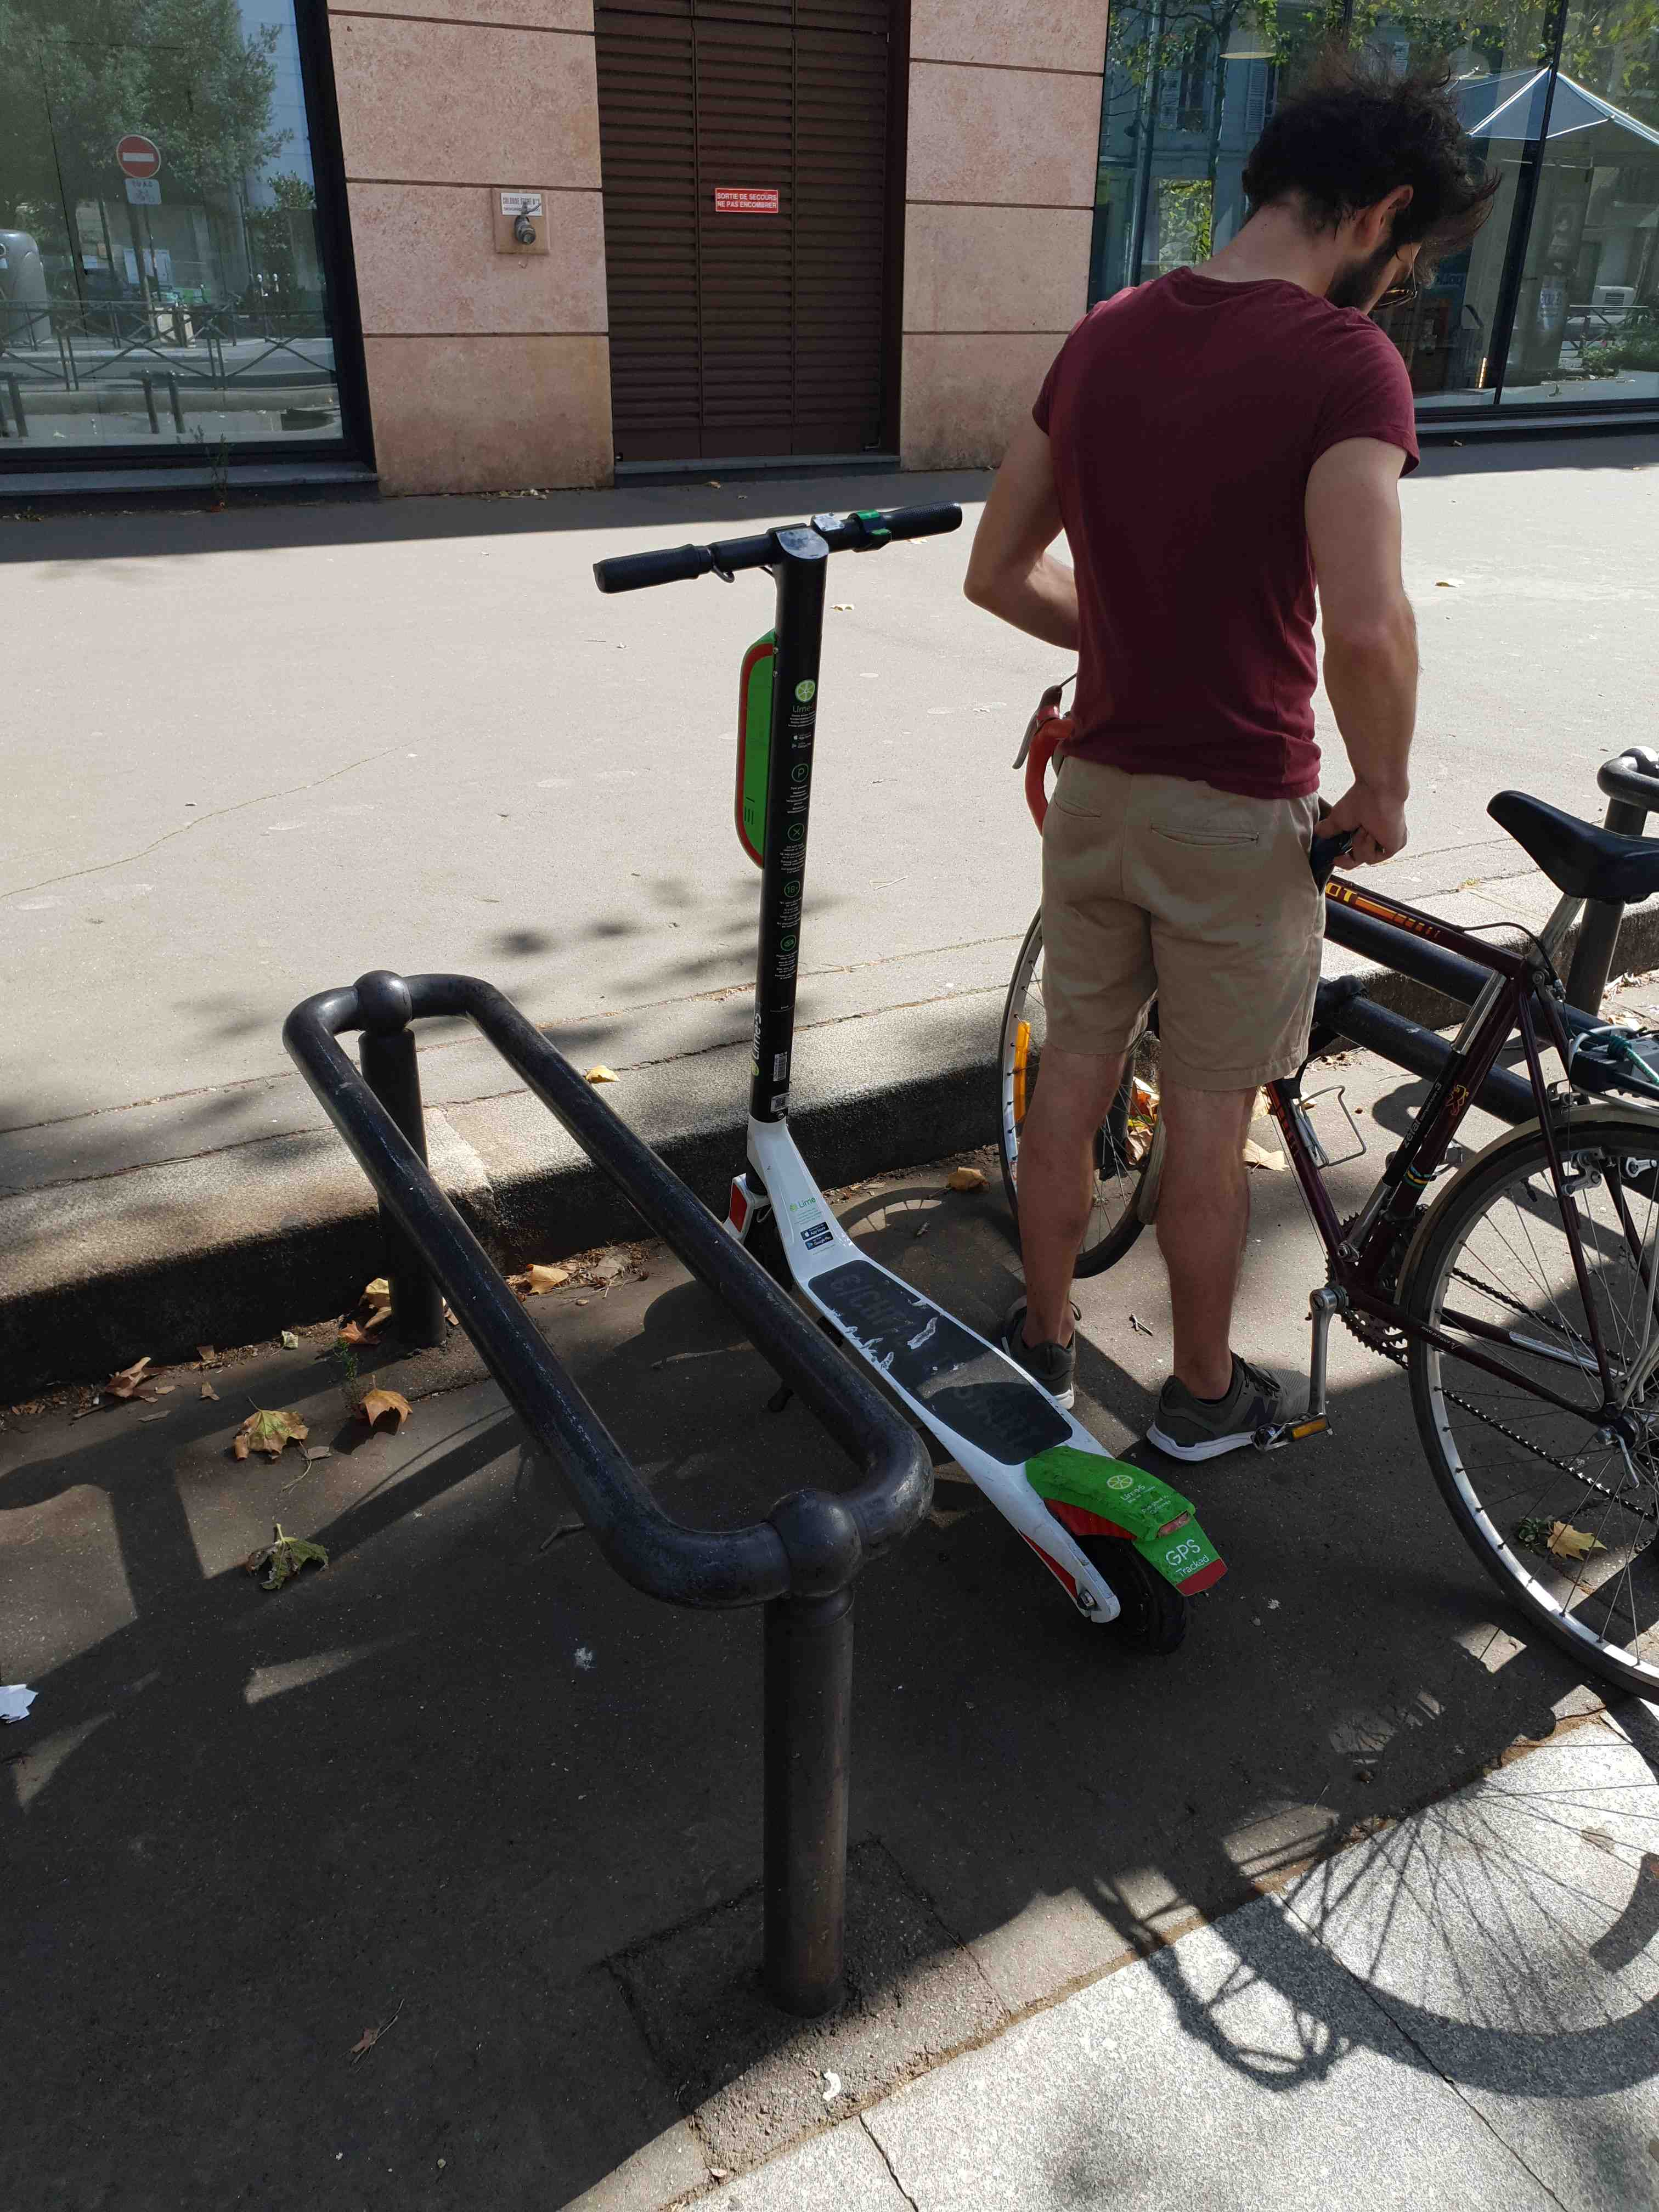scooter: (580, 455, 1249, 1689)
